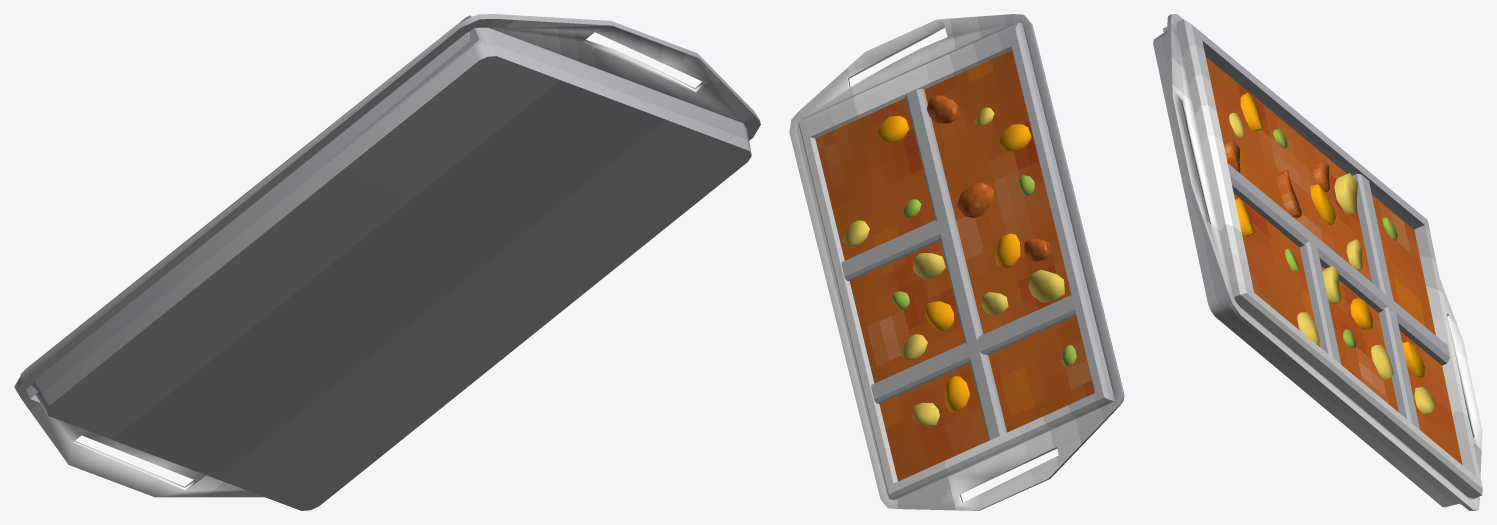
File: H_MessTray_Liquid.fbx
The picture shows the model from 3 angles, left to right: view 1: azimuth 30°, elevation 25°; view 2: azimuth 150°, elevation 25°; view 3: azimuth 270°, elevation 25°; orthographic projection. The views are drawn at different scales.
Parts seen in each view (by area): view 1: MessTray.002; view 2: MessTray.002; view 3: MessTray.002.
Boxes of the visible parts, x1=… form: MessTray.002: x1=14, y1=14, x2=760, y2=510; MessTray.002: x1=789, y1=14, x2=1124, y2=510; MessTray.002: x1=1153, y1=14, x2=1482, y2=510.
Size of the model in its own units: 74.13 by 70.77 by 42.99.
